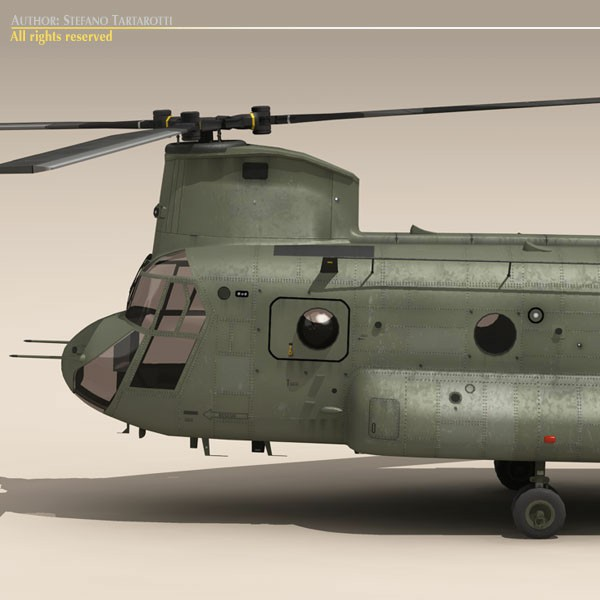chinook: (14, 90, 600, 529)
